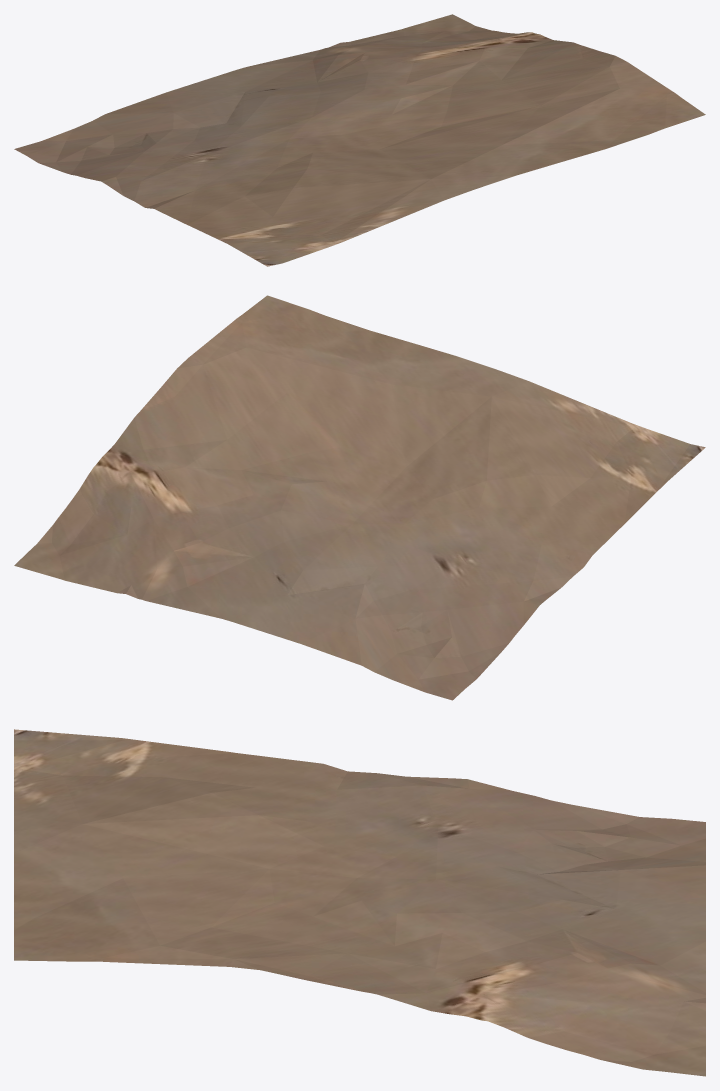
3 renders of one model, top to bottom at view 1: azimuth 30°, elevation 25°; view 2: azimuth 150°, elevation 25°; view 3: azimuth 270°, elevation 25°, orthographic. The views are drawn at different scales.
Size of the model in its own units: 1.04 by 0.2564 by 1.04.
3 materials, 3 textured.
